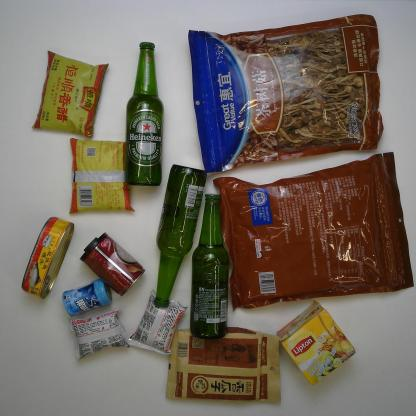Alcohol: (152, 163, 208, 311), (122, 40, 164, 188), (190, 192, 232, 340)
Canned Food: (19, 215, 76, 301), (79, 231, 146, 297)
Dessert: (125, 288, 189, 357), (66, 305, 131, 362)
Dried Food: (212, 150, 415, 313), (186, 13, 385, 175), (165, 324, 281, 409)
Gum: (62, 278, 114, 318)
Instant Drink: (275, 298, 357, 387)
Seasoner: (29, 48, 110, 140), (66, 134, 134, 214)
